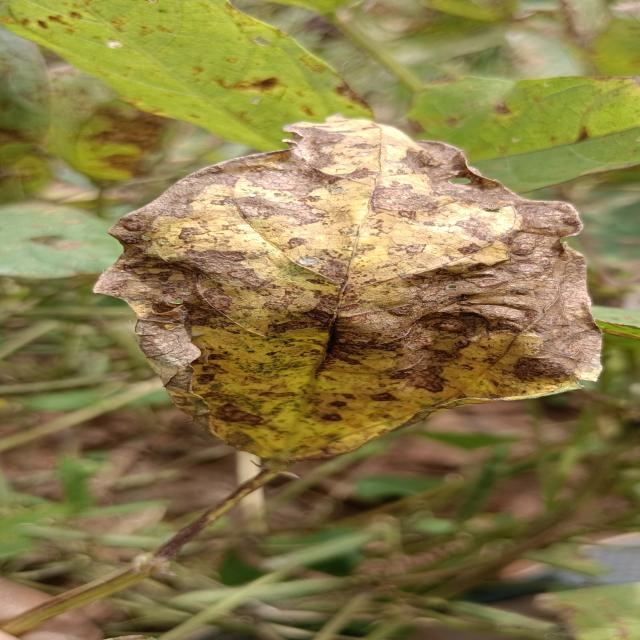Black gram_leaf spot: (88, 114, 612, 468)
